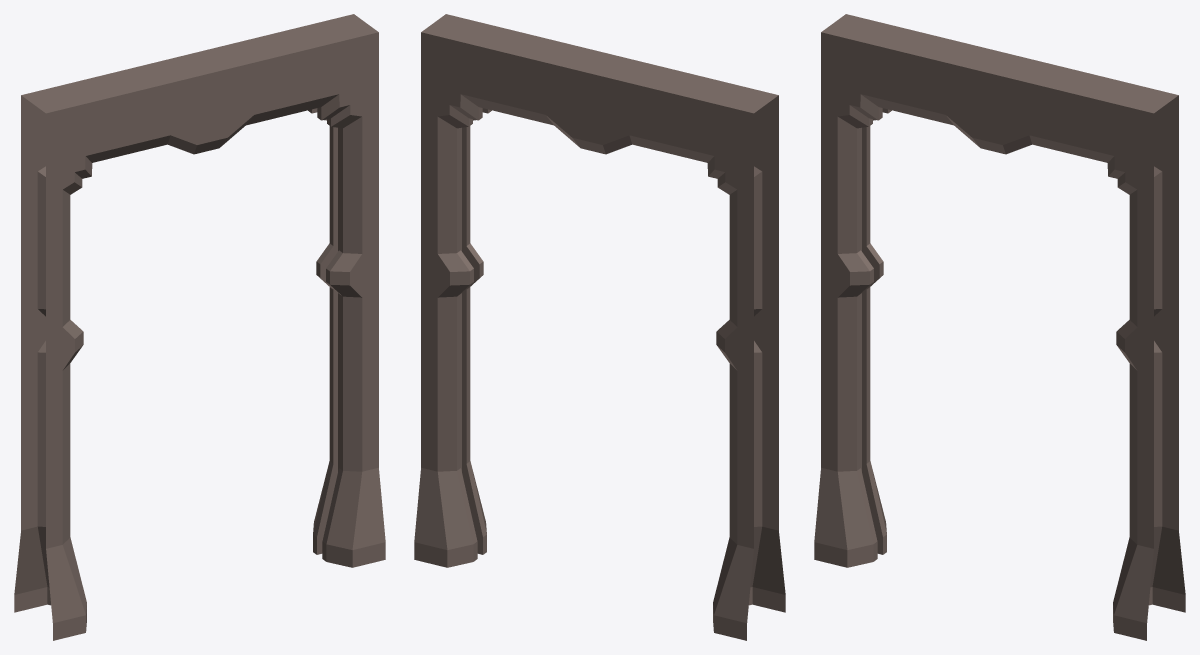
Rendered from door02.fbx.
3 views of the same model, side by side, from view 1: azimuth 30°, elevation 25°; view 2: azimuth 150°, elevation 25°; view 3: azimuth 330°, elevation 25° (orthographic).
Parts seen in each view (by area): view 1: frame; view 2: frame; view 3: frame.
Boxes of the visible parts, left/top/right/bottom form: frame: left=14, top=14, right=385, bottom=640; frame: left=414, top=14, right=785, bottom=640; frame: left=814, top=14, right=1185, bottom=640.
Size of the model in its own units: 200 by 300 by 40.15.
